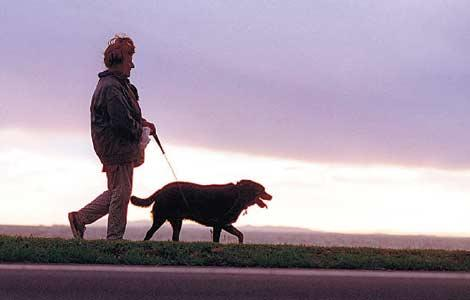person: (68, 36, 154, 247)
